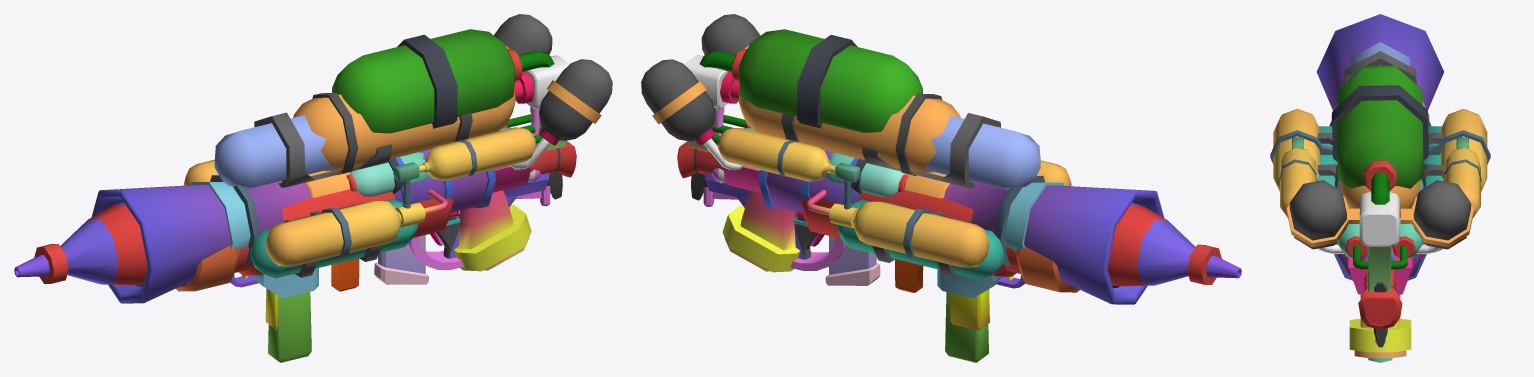
File: Gun.fbx
3 renders of one model, left to right at view 1: azimuth 30°, elevation 25°; view 2: azimuth 150°, elevation 25°; view 3: azimuth 270°, elevation 25°, orthographic.
Parts seen in each view (by area): view 1: Guns_004, Guns_003, Guns_001, Guns_005, Guns_004_Ammo, Guns_008, Guns_011, Guns_009; view 2: Guns_004, Guns_005, Guns_001, Guns_003, Guns_004_Ammo, Guns_008, Guns_011, Guns_009; view 3: Guns_004, Guns_001, Guns_005, Guns_003, Guns_011.
Part boxes in pixels (<box>): Guns_004: <box>91,126,536,329</box>; Guns_003: <box>135,112,529,362</box>; Guns_001: <box>332,29,554,224</box>; Guns_005: <box>293,14,612,291</box>; Guns_004_Ammo: <box>14,201,147,285</box>; Guns_008: <box>374,235,463,284</box>; Guns_011: <box>436,143,562,258</box>; Guns_009: <box>430,186,550,245</box>; Guns_004: <box>718,127,1164,330</box>; Guns_005: <box>641,14,960,292</box>; Guns_001: <box>699,29,922,225</box>; Guns_003: <box>724,113,1119,362</box>; Guns_004_Ammo: <box>1107,202,1241,286</box>; Guns_008: <box>790,236,880,285</box>; Guns_011: <box>691,134,818,259</box>; Guns_009: <box>703,187,824,246</box>; Guns_004: <box>1270,14,1490,352</box>; Guns_001: <box>1332,65,1428,295</box>; Guns_005: <box>1286,165,1473,362</box>; Guns_003: <box>1317,42,1443,358</box>; Guns_011: <box>1373,282,1387,347</box>.
Size of the model in its own units: 186 by 88.26 by 70.35.
